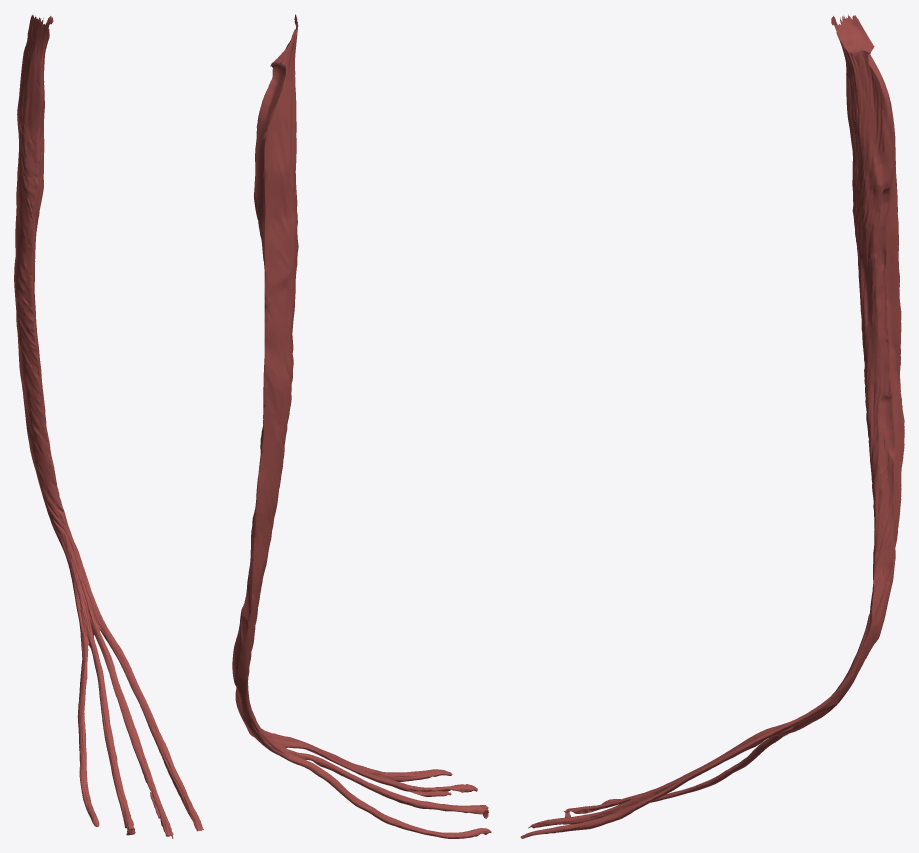
Rendered from FMA22548.glb.
3 renders of one model, left to right at view 1: azimuth 30°, elevation 25°; view 2: azimuth 150°, elevation 25°; view 3: azimuth 270°, elevation 25°, orthographic. The views are drawn at different scales.
Parts seen in each view (by area): view 1: FMA22548; view 2: FMA22548; view 3: FMA22548.
Boxes of the visible parts, left/top/right/bottom form: FMA22548: left=14, top=14, right=203, bottom=838; FMA22548: left=232, top=14, right=491, bottom=838; FMA22548: left=520, top=14, right=904, bottom=838.
Size of the model in its own units: 0.055 by 0.3938 by 0.1666.
